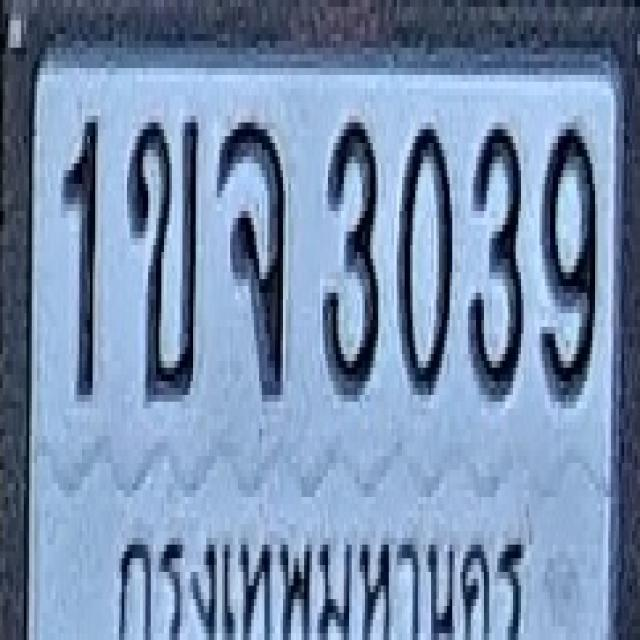0: (397, 119, 452, 392)
1: (61, 112, 98, 398)
3: (323, 112, 378, 392), (470, 122, 522, 395)
9: (541, 119, 596, 398)
A02: (127, 112, 198, 398)
A08: (217, 112, 286, 392)
BKK: (108, 503, 529, 640)
